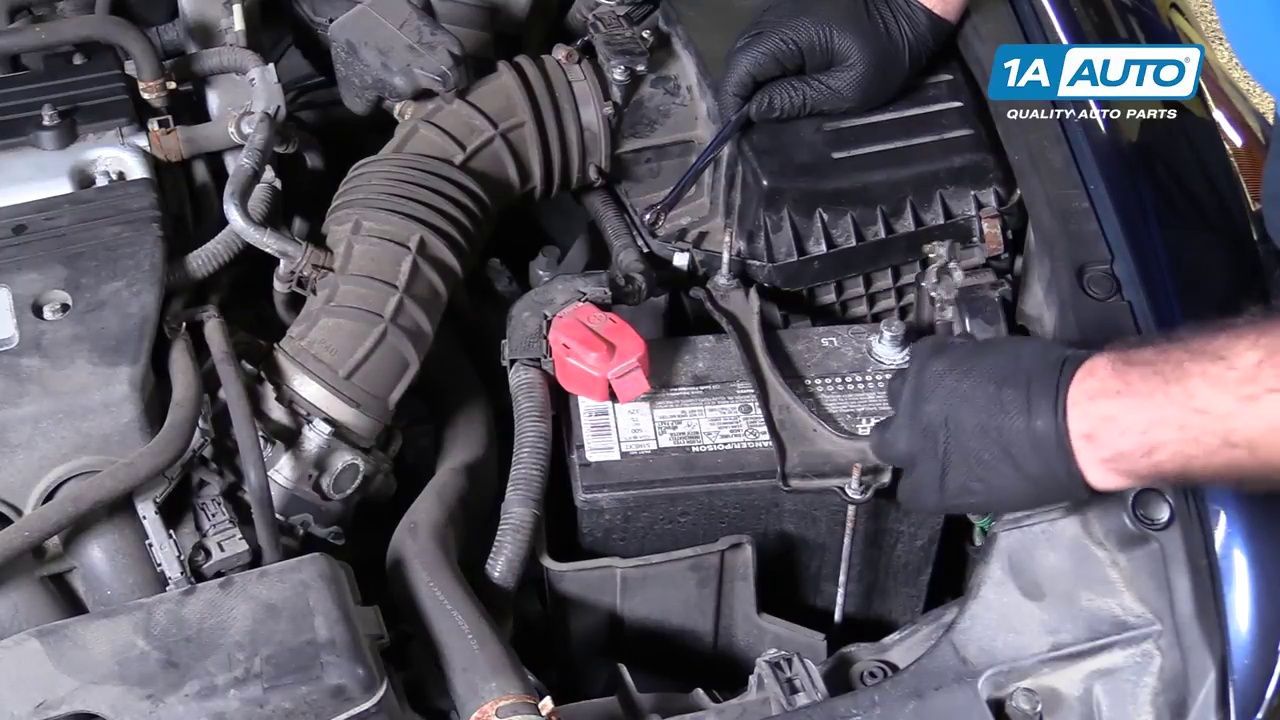battery: (555, 294, 962, 482)
neg_disconnected: (840, 302, 947, 382)
neg_touched: (843, 300, 1004, 422)
pos_connected: (524, 293, 668, 400)
